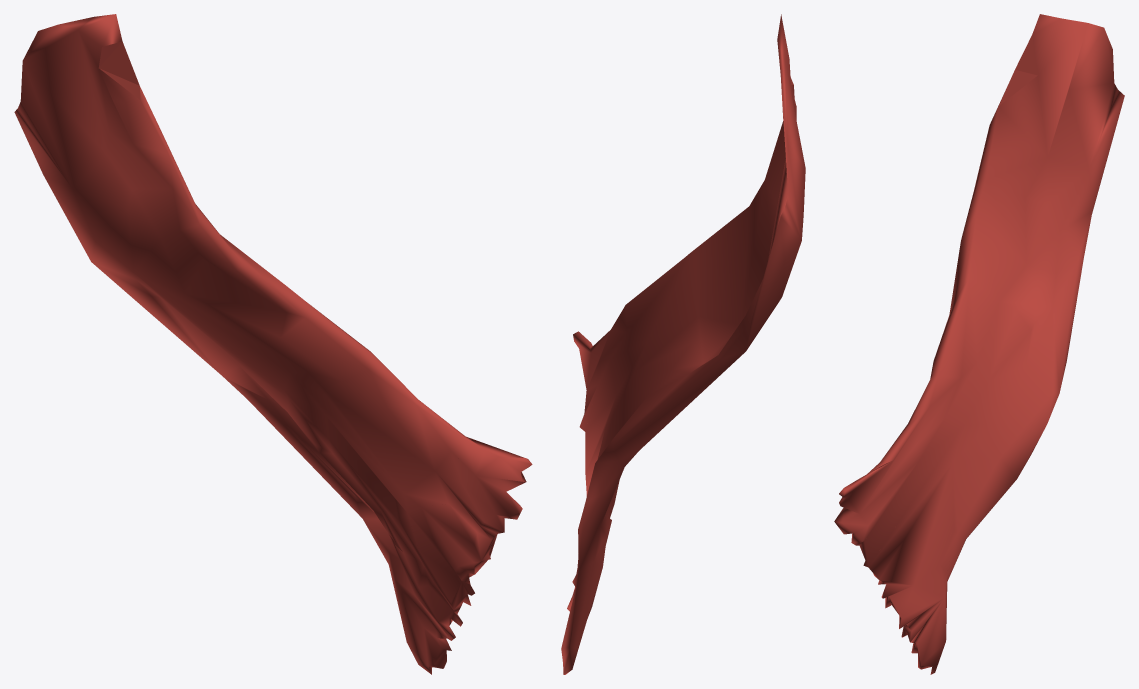
File: musculos-zygomaticus-major-muscle-r.glb
3 renders of one model, left to right at view 1: azimuth 30°, elevation 25°; view 2: azimuth 150°, elevation 25°; view 3: azimuth 270°, elevation 25°, orthographic. The views are drawn at different scales.
Visible parts, largest first — view 1: Zygomaticus major muscle.r; view 2: Zygomaticus major muscle.r; view 3: Zygomaticus major muscle.r.
Boxes of the visible parts, box(x1,y1,x2,y2) form: Zygomaticus major muscle.r: box(14, 14, 532, 674); Zygomaticus major muscle.r: box(561, 14, 805, 674); Zygomaticus major muscle.r: box(834, 14, 1124, 674).
Size of the model in its own units: 0.0293 by 0.0545 by 0.0256.
